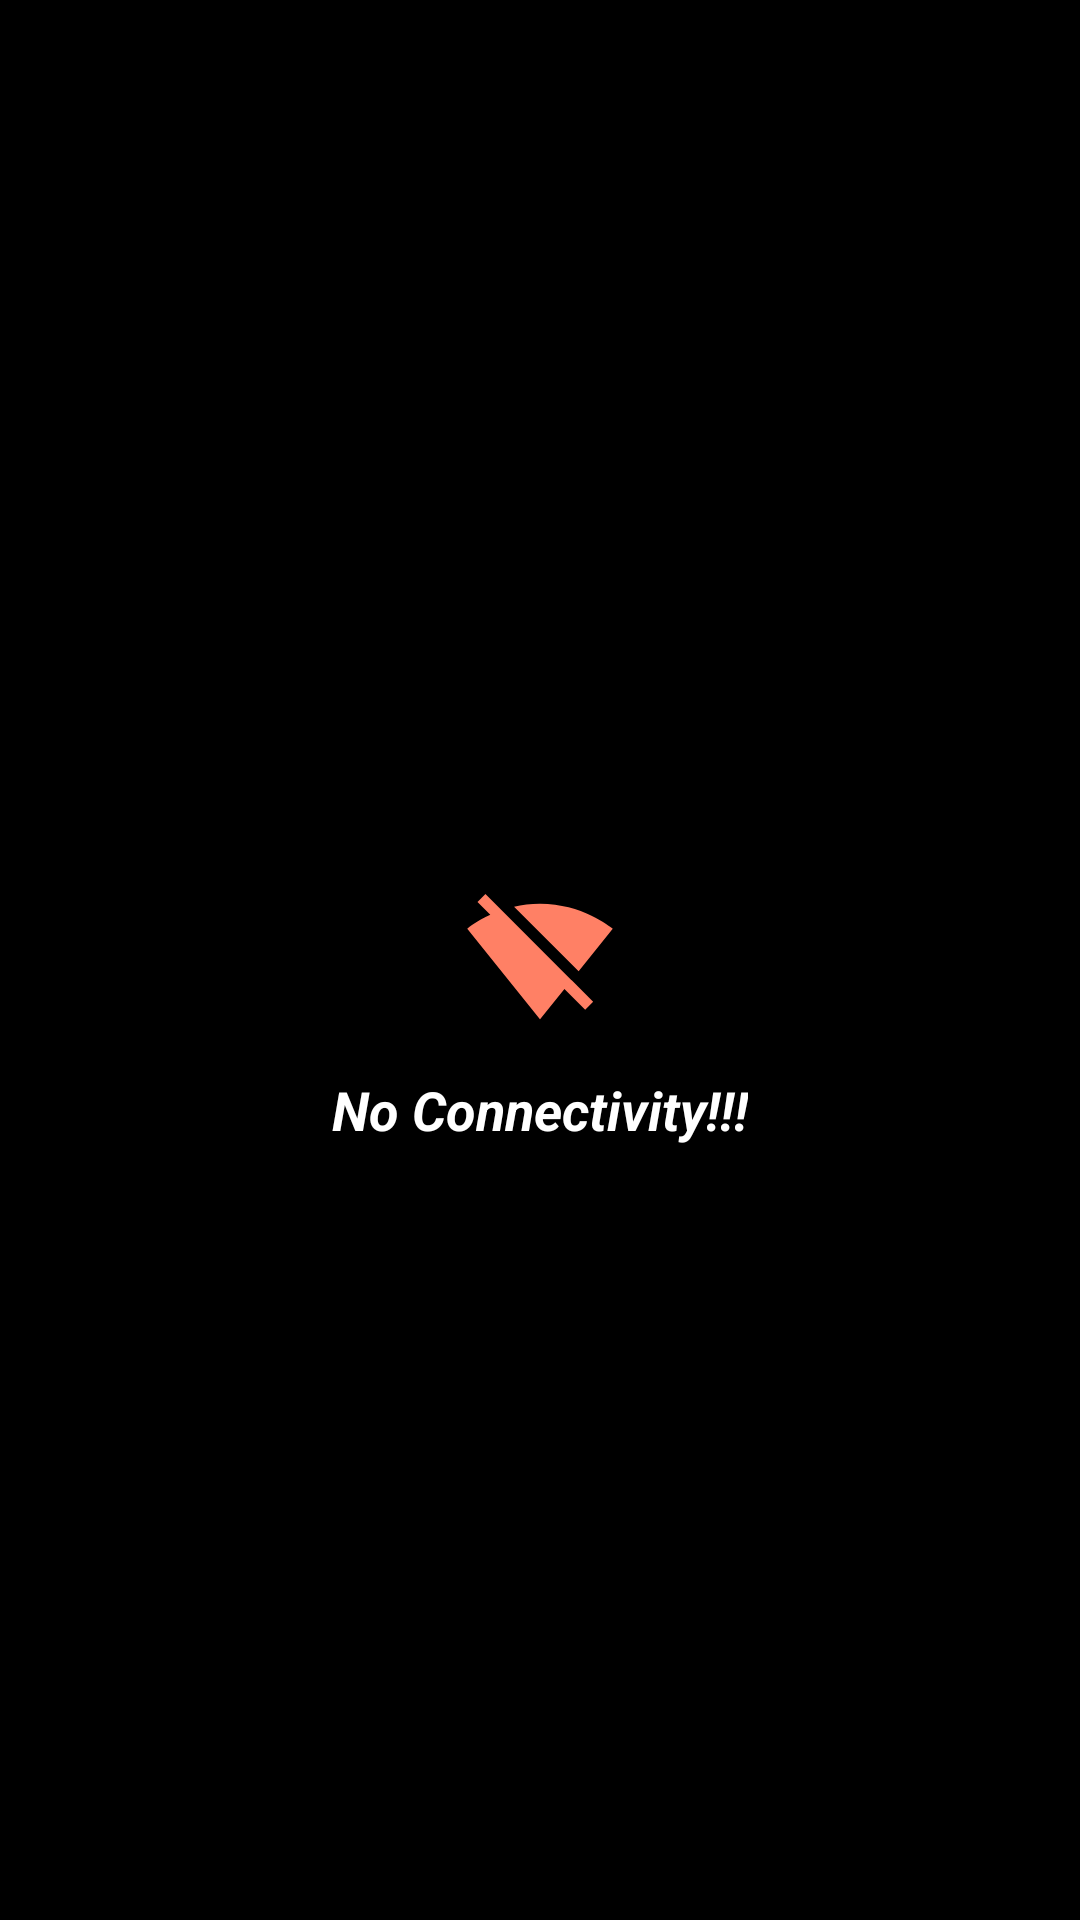

Screen size 1080 x 1920. Icon name, then its center in pixels as (x=x, y=y):
signal wifi off: (x=540, y=956)
